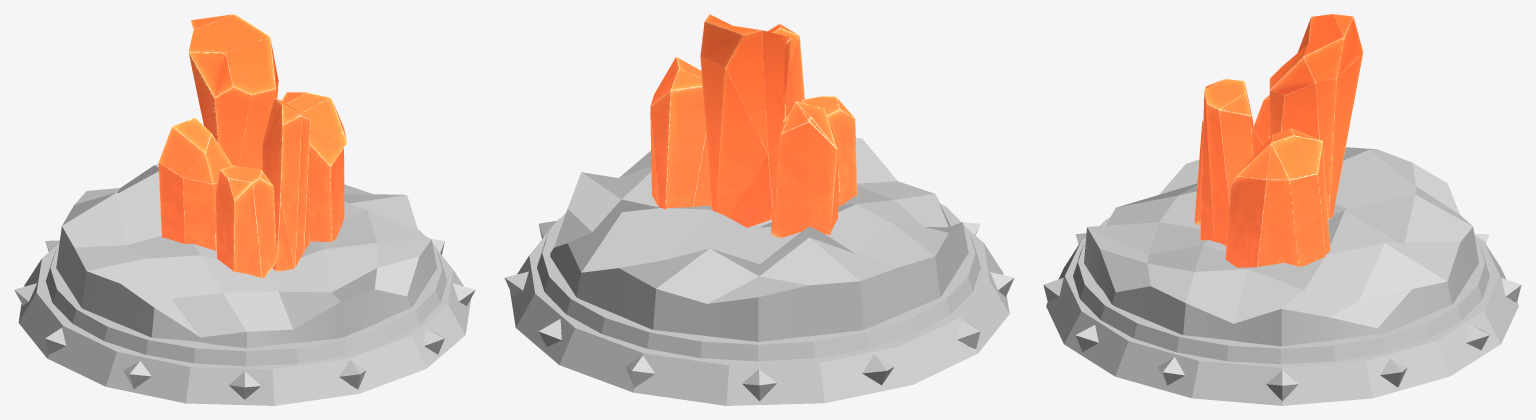
3 views of the same model, side by side, from view 1: azimuth 30°, elevation 25°; view 2: azimuth 150°, elevation 25°; view 3: azimuth 270°, elevation 25° (orthographic). The views are drawn at different scales.
Visible parts, largest first — view 1: 9_zemin, 9_1; view 2: 9_zemin, 9_1; view 3: 9_zemin, 9_1.
Boxes of the visible parts, box(x1,y1,x2,y2) form: 9_zemin: box(14, 164, 475, 405); 9_1: box(158, 14, 347, 278); 9_zemin: box(504, 138, 1014, 405); 9_1: box(650, 14, 857, 237); 9_zemin: box(1043, 147, 1521, 405); 9_1: box(1194, 14, 1363, 267).
Bounding box in the file's own units: 1047 × 676 × 1047.
